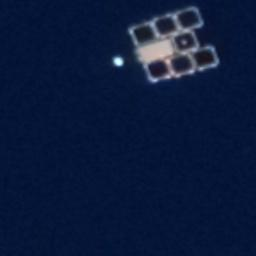square_solid: (186, 42, 222, 75), (172, 3, 207, 33), (126, 18, 161, 48), (150, 11, 184, 40), (166, 49, 199, 78), (167, 29, 203, 55), (142, 55, 174, 83)
